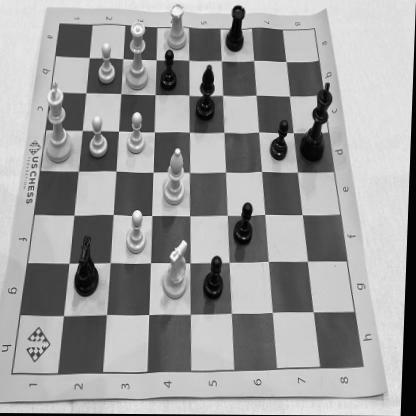black-bishop: (193, 60, 220, 124)
black-king: (298, 80, 336, 167)
black-pawn: (204, 253, 229, 303), (233, 198, 257, 250), (158, 48, 182, 92), (271, 118, 292, 166)
black-rook: (223, 1, 249, 57)
white-bishop: (162, 142, 190, 210)
white-king: (42, 77, 77, 166)
white-knight: (74, 232, 105, 301), (162, 236, 194, 302)
white-pawn: (125, 204, 151, 258), (86, 115, 113, 162), (125, 110, 150, 159), (96, 41, 119, 88)
white-queen: (126, 18, 152, 94)
white-rook: (164, 0, 190, 54)
